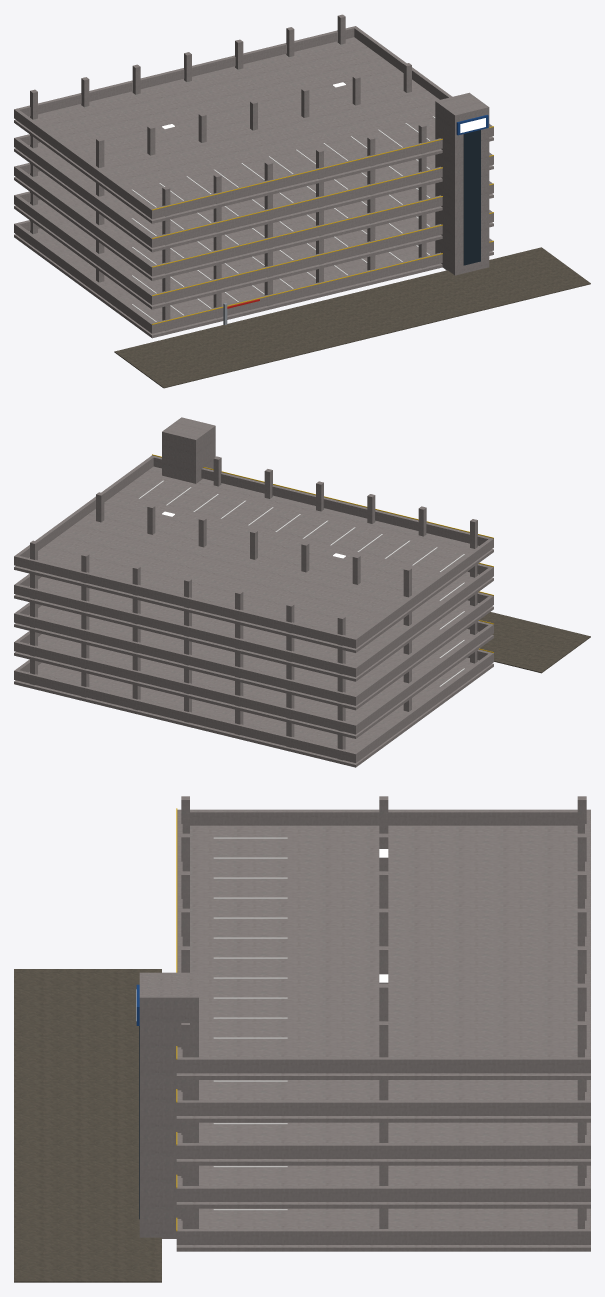
Rendered from OT_ParkingGarage_A.glb.
The picture shows the model from 3 angles, top to bottom: view 1: azimuth 30°, elevation 25°; view 2: azimuth 150°, elevation 25°; view 3: azimuth 270°, elevation 25°; orthographic projection. The views are drawn at different scales.
Visible parts, largest first — view 1: OT_ParkingGarage_A_Concrete, OT_ParkingGarage_A_Pavement, OT_ParkingGarage_A_Yellow__e8b81e, OT_ParkingGarage_A_Glass__22303a, OT_ParkingGarage_A_PaintWhite__f0f0ee; view 2: OT_ParkingGarage_A_Concrete, OT_ParkingGarage_A_Pavement, OT_ParkingGarage_A_PaintWhite__f0f0ee, OT_ParkingGarage_A_Yellow__e8b81e; view 3: OT_ParkingGarage_A_Concrete, OT_ParkingGarage_A_Pavement, OT_ParkingGarage_A_PaintWhite__f0f0ee.
Part boxes in pixels (left/top/right/bottom): OT_ParkingGarage_A_Concrete: left=14, top=14, right=493, bottom=338; OT_ParkingGarage_A_Pavement: left=114, top=247, right=590, bottom=388; OT_ParkingGarage_A_Yellow__e8b81e: left=152, top=126, right=493, bottom=324; OT_ParkingGarage_A_Glass__22303a: left=463, top=130, right=480, bottom=265; OT_ParkingGarage_A_PaintWhite__f0f0ee: left=132, top=116, right=435, bottom=321; OT_ParkingGarage_A_Concrete: left=14, top=417, right=493, bottom=767; OT_ParkingGarage_A_Pavement: left=480, top=612, right=590, bottom=673; OT_ParkingGarage_A_PaintWhite__f0f0ee: left=139, top=480, right=464, bottom=686; OT_ParkingGarage_A_Yellow__e8b81e: left=152, top=454, right=493, bottom=652; OT_ParkingGarage_A_Concrete: left=139, top=796, right=590, bottom=1251; OT_ParkingGarage_A_Pavement: left=14, top=969, right=161, bottom=1282; OT_ParkingGarage_A_PaintWhite__f0f0ee: left=213, top=837, right=287, bottom=1210.
Bounding box in the file's own units: 50 × 18 × 39.
Materials: 10 (2 with a texture image).
